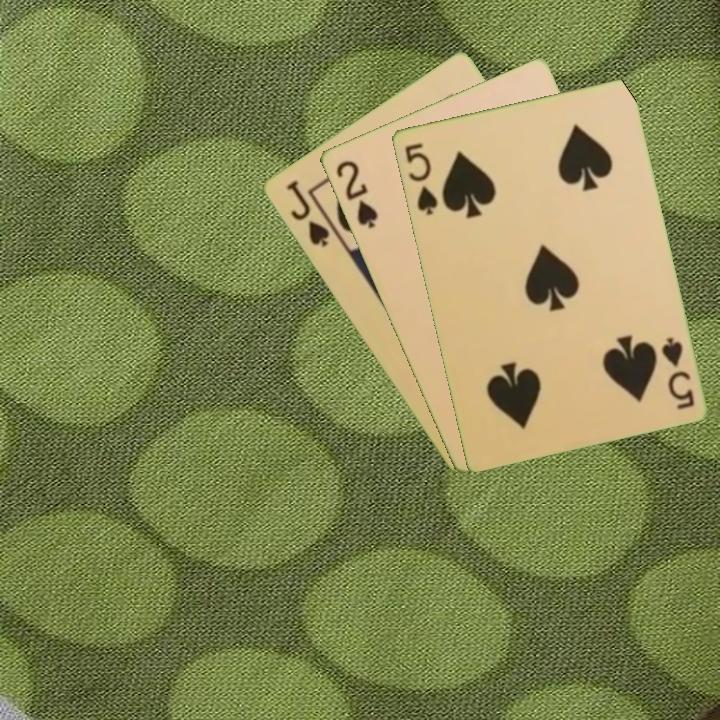2s: (332, 156, 380, 231)
5s: (400, 139, 440, 218), (657, 333, 697, 412)
Js: (282, 176, 332, 250)
